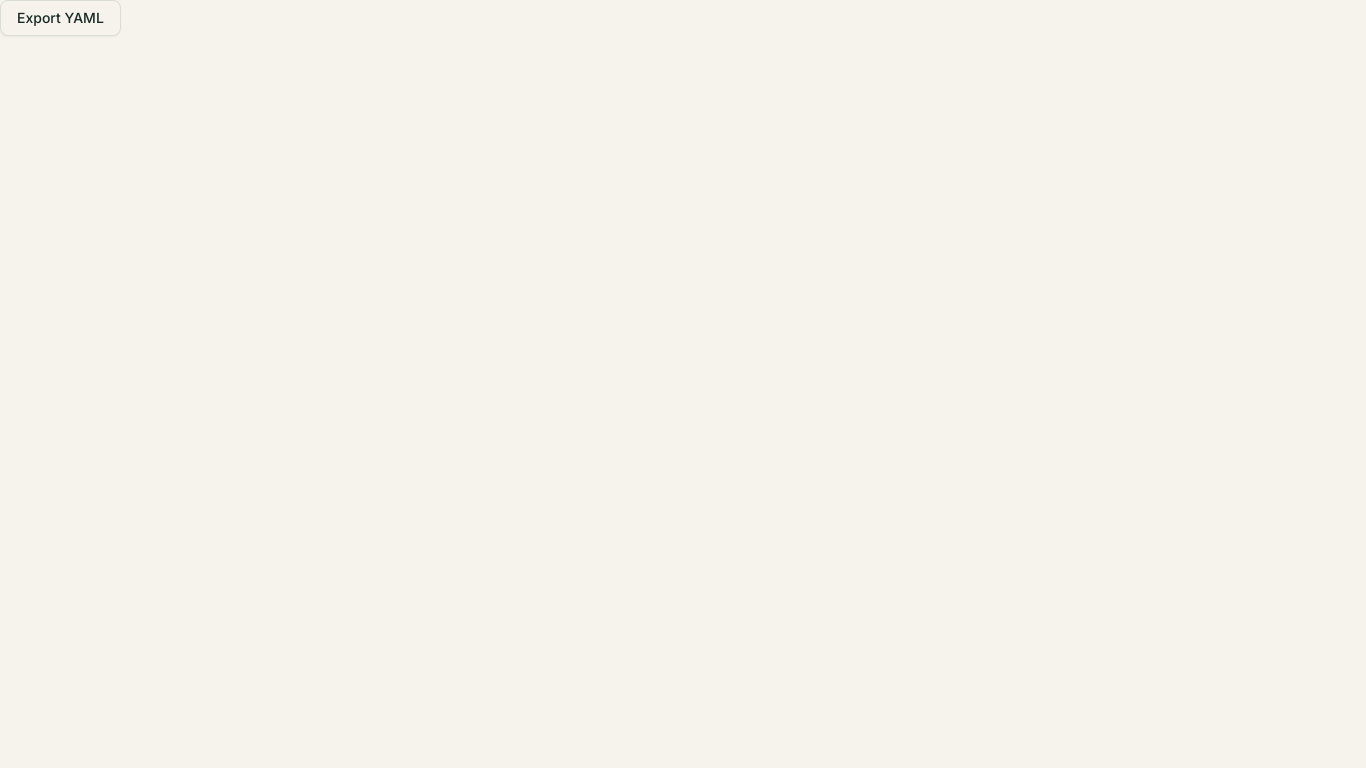
Test: rules export › records nothing for a failed response
This screenshot has width=1366, height=768.
Click the link "Export YAML".
click(60, 18)  # box [0,0,121,36]
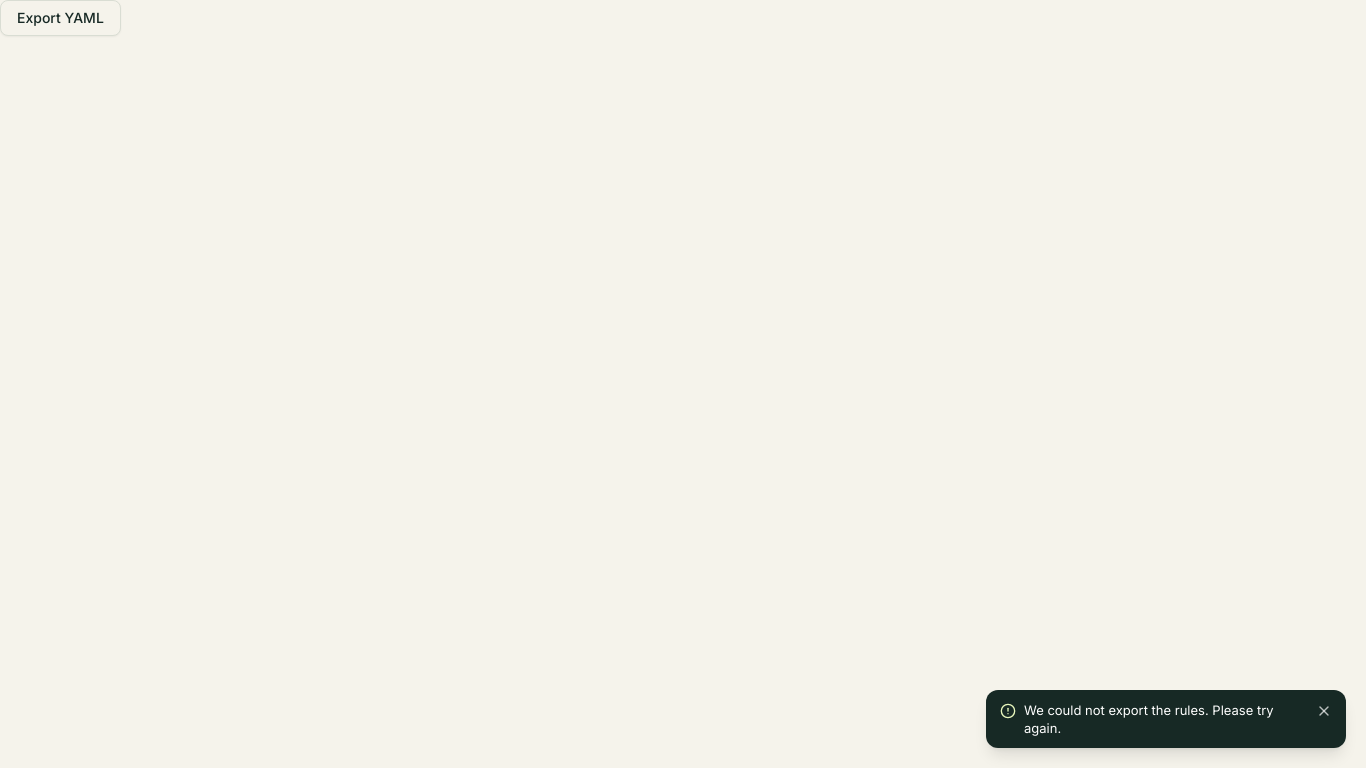
Expected: the text "We could not export the rules. Please try again." is shown, [1024,701,1302,737]
